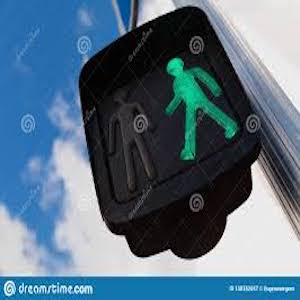green: (151, 61, 244, 159)
